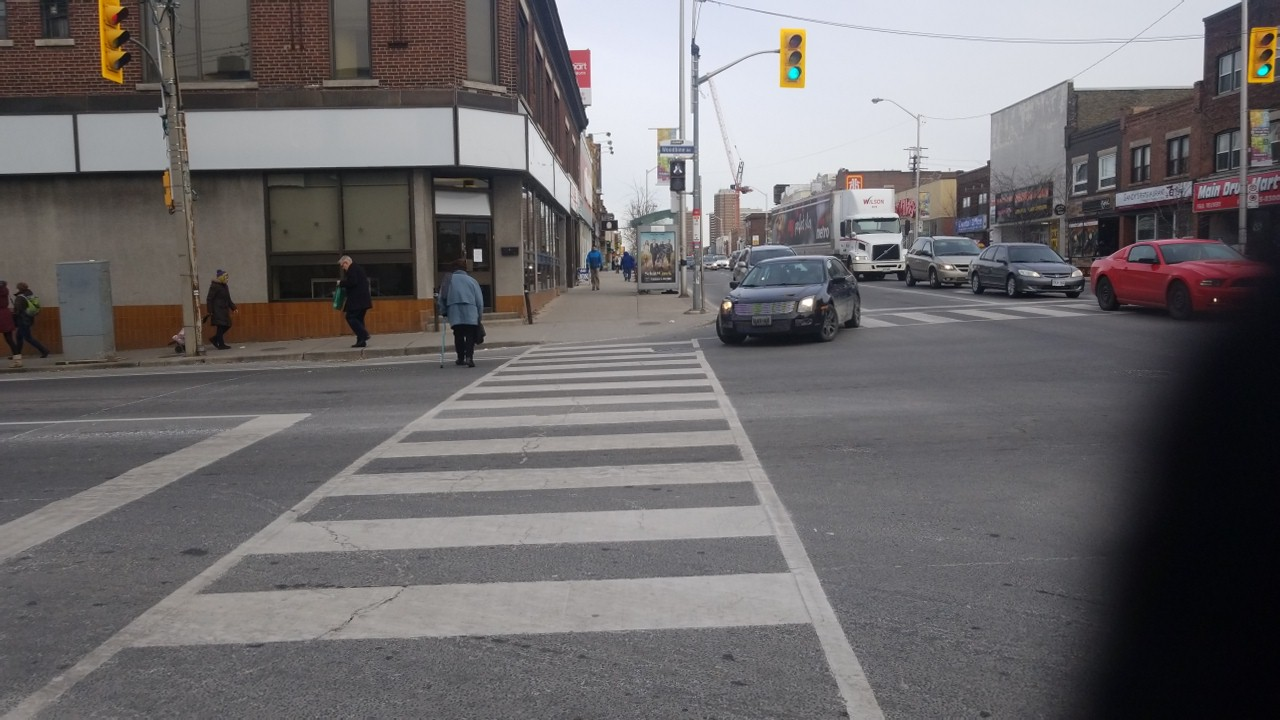light: (665, 156, 688, 195)
